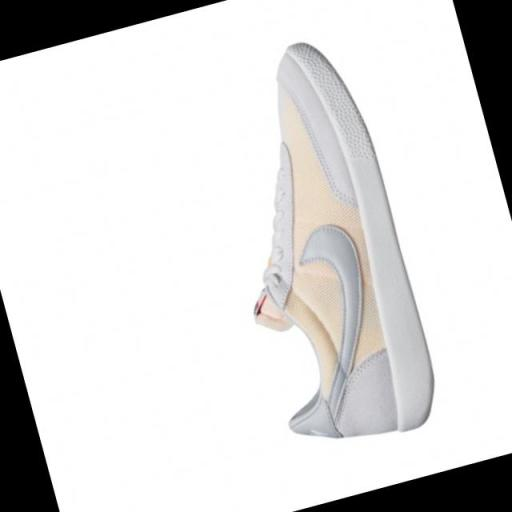Nike: (279, 212, 406, 424)
